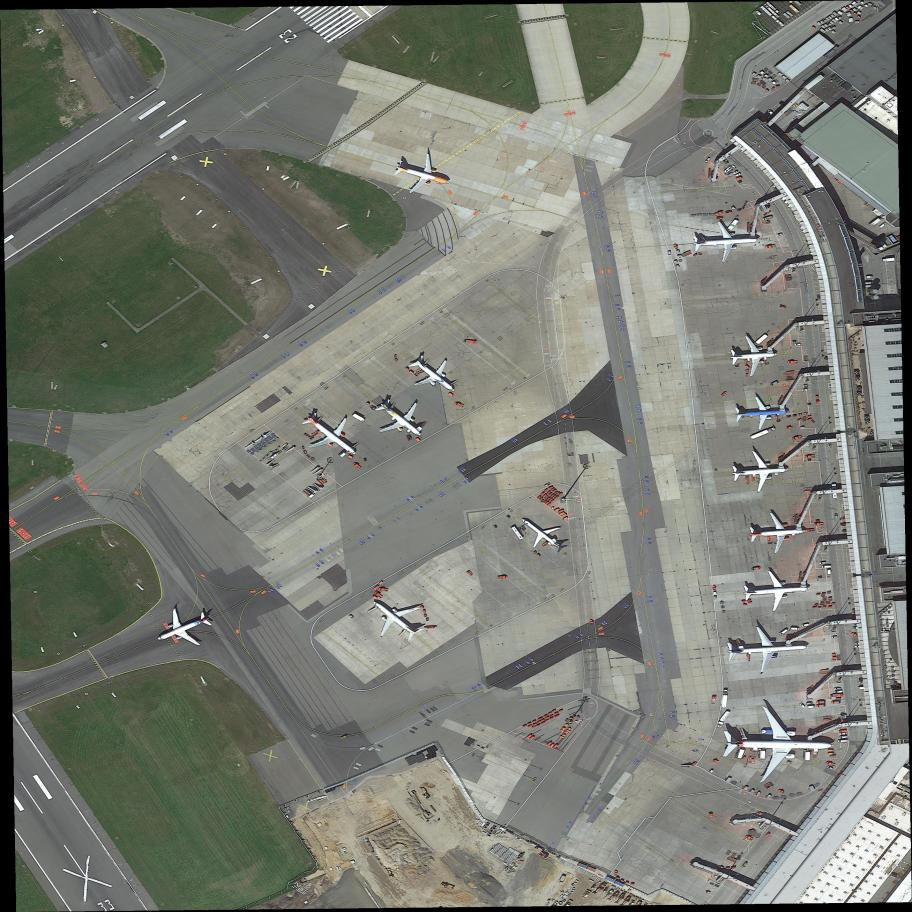plane: (713, 696, 849, 791), (281, 388, 379, 482), (355, 371, 449, 462), (389, 330, 480, 419), (354, 574, 446, 662), (140, 589, 230, 665), (382, 136, 466, 207), (722, 618, 820, 676), (683, 208, 765, 271), (506, 497, 578, 567), (741, 502, 816, 560), (737, 563, 817, 615), (726, 444, 798, 497), (724, 331, 782, 383), (730, 391, 791, 435)
